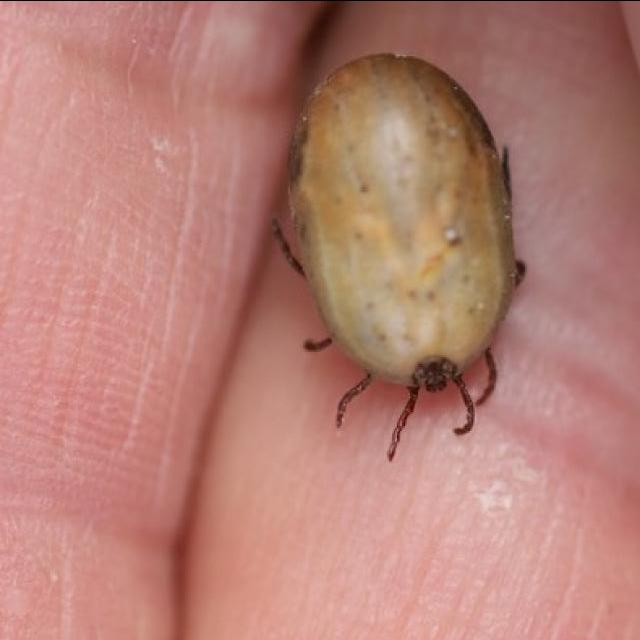Dermacentor Reticulatus-F-Fed: (272, 52, 527, 461)
